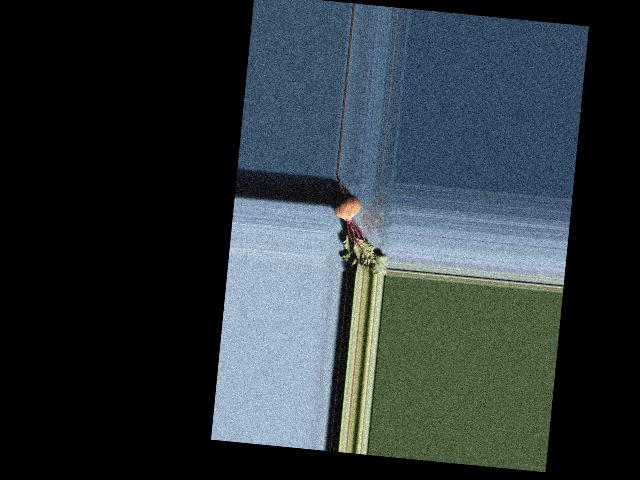beet: (327, 175, 395, 276)
